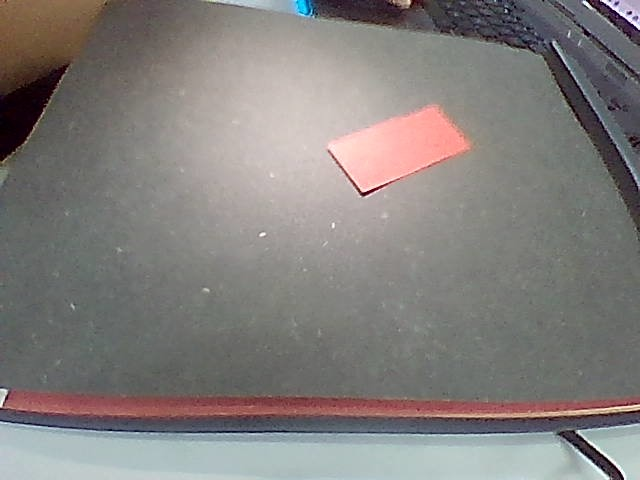card: (329, 105, 470, 194)
